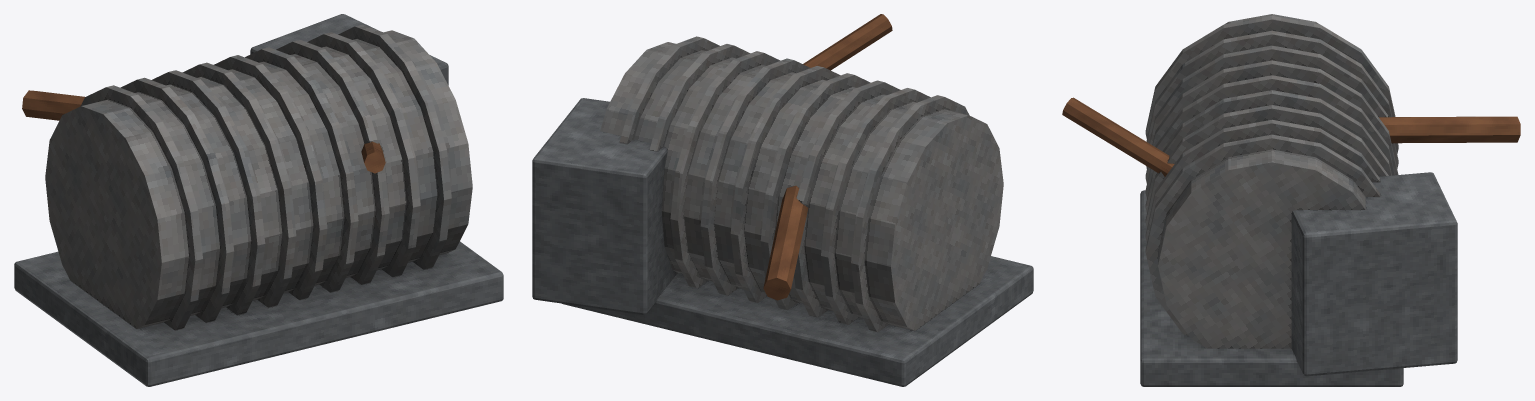
The model's file is arena_mine_generator.glb.
3 views of the same model, side by side, from view 1: azimuth 30°, elevation 25°; view 2: azimuth 150°, elevation 25°; view 3: azimuth 270°, elevation 25° (orthographic). The views are drawn at different scales.
Visible parts, largest first — view 1: arena_mine_generator; view 2: arena_mine_generator; view 3: arena_mine_generator.
Part boxes in pixels (x1,y1,x2,y2): arena_mine_generator: (14, 14, 503, 386); arena_mine_generator: (532, 14, 1033, 386); arena_mine_generator: (1062, 14, 1520, 386).
Bounding box in the file's own units: 2.48 × 1.44 × 2.61.
Materials: 3 (3 with a texture image).
